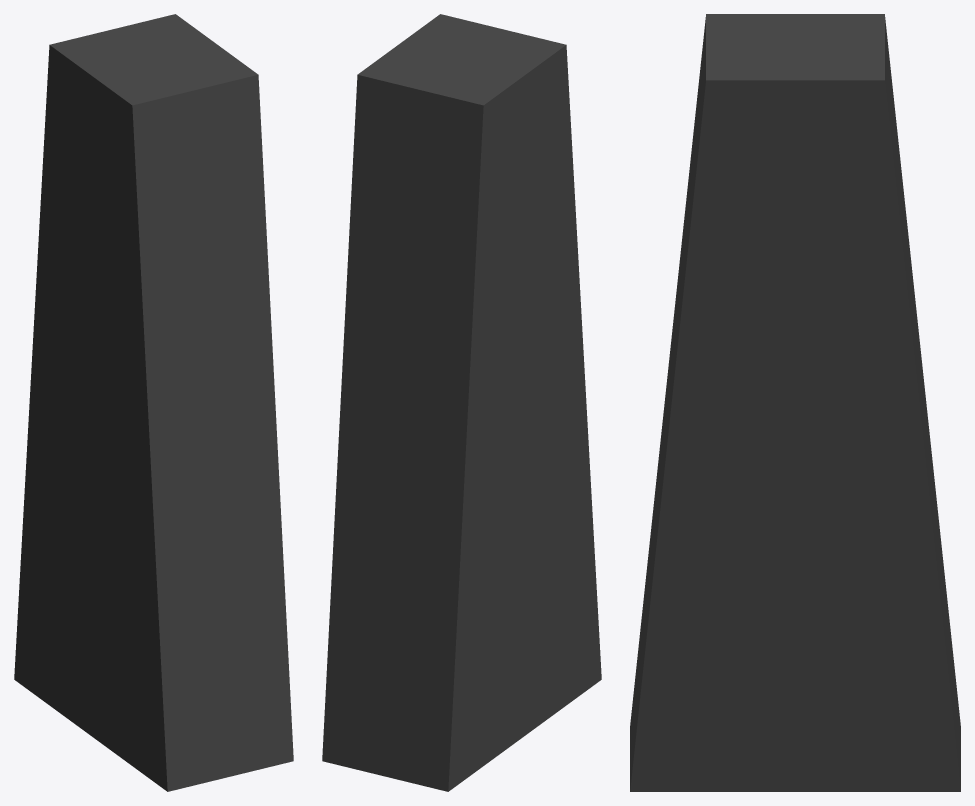
The model's file is Plumbing2_C1_02.fbx.
3 views of the same model, side by side, from view 1: azimuth 30°, elevation 25°; view 2: azimuth 150°, elevation 25°; view 3: azimuth 270°, elevation 25° (orthographic). The views are drawn at different scales.
Visible parts, largest first — view 1: Plumbing2_C1_02; view 2: Plumbing2_C1_02; view 3: Plumbing2_C1_02.
Boxes of the visible parts, x1,y1,x2,y2 form: Plumbing2_C1_02: (14,14,293,791); Plumbing2_C1_02: (322,14,601,791); Plumbing2_C1_02: (630,14,960,791).
Bounding box in the file's own units: 1.02 × 5.12 × 2.15.
